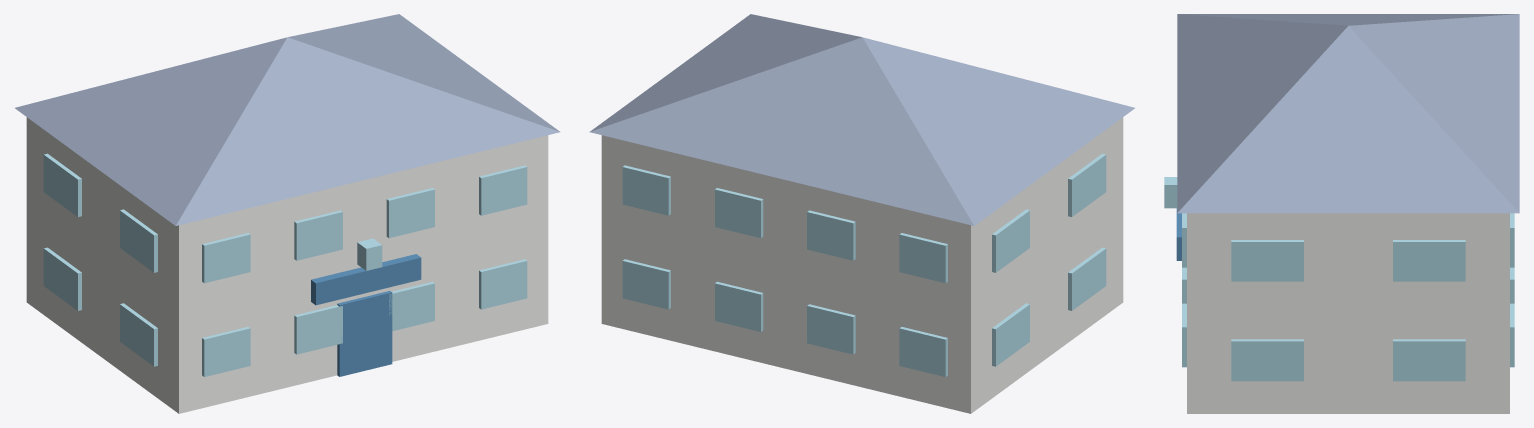
The model's file is police_station.glb.
The picture shows the model from 3 angles, left to right: view 1: azimuth 30°, elevation 25°; view 2: azimuth 150°, elevation 25°; view 3: azimuth 270°, elevation 25°; orthographic projection. The views are drawn at different scales.
Parts seen in each view (by area): view 1: police_station_offwhite, police_station_roof_slate, police_station_window, police_station_garda_blue; view 2: police_station_offwhite, police_station_roof_slate, police_station_window; view 3: police_station_roof_slate, police_station_offwhite, police_station_window.
Boxes of the visible parts, box(x1,y1,x2,y2) form: police_station_offwhite: box(26, 117, 548, 413); police_station_roof_slate: box(15, 14, 560, 225); police_station_window: box(43, 153, 527, 376); police_station_garda_blue: box(311, 254, 421, 376); police_station_offwhite: box(601, 117, 1123, 413); police_station_roof_slate: box(589, 14, 1134, 225); police_station_window: box(622, 153, 1106, 376); police_station_roof_slate: box(1177, 14, 1519, 213); police_station_offwhite: box(1187, 213, 1509, 413); police_station_window: box(1164, 177, 1514, 381).
Size of the model in its own units: 14.6 by 10 by 11.
